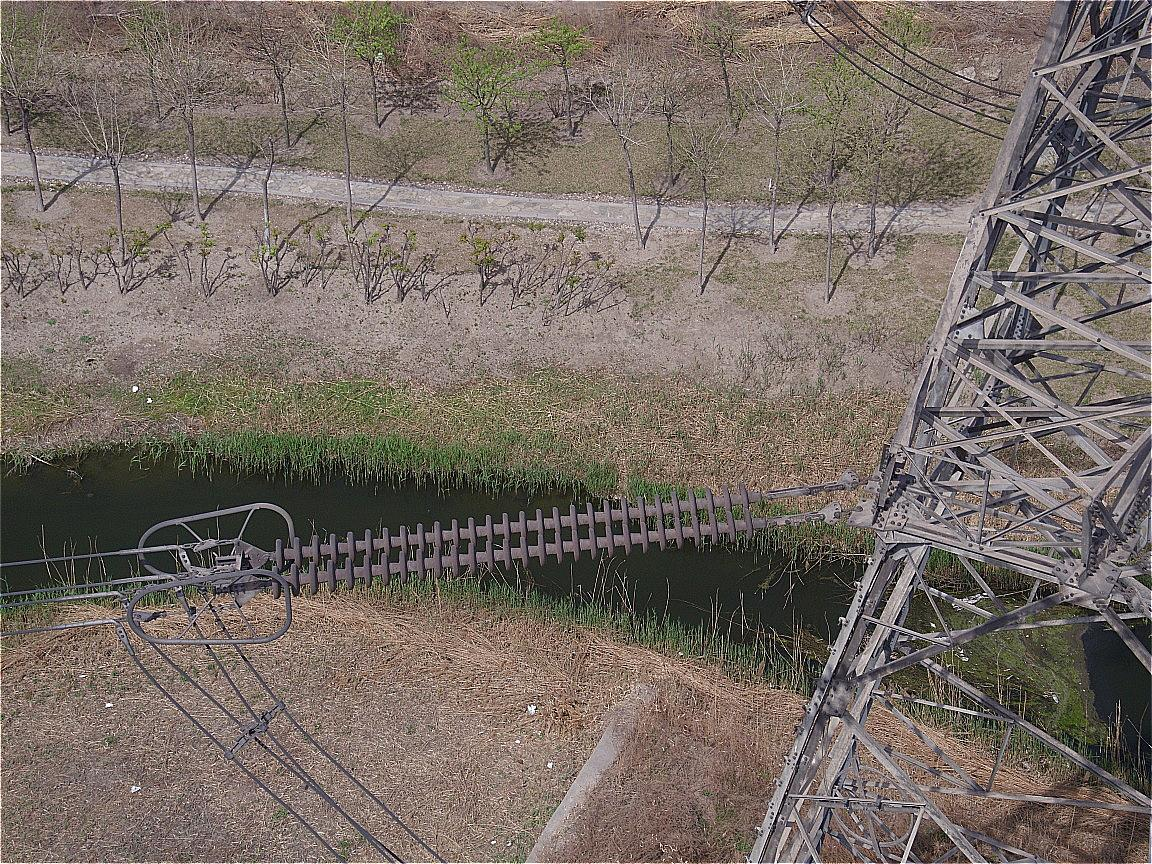insultor1: (271, 484, 768, 599)
